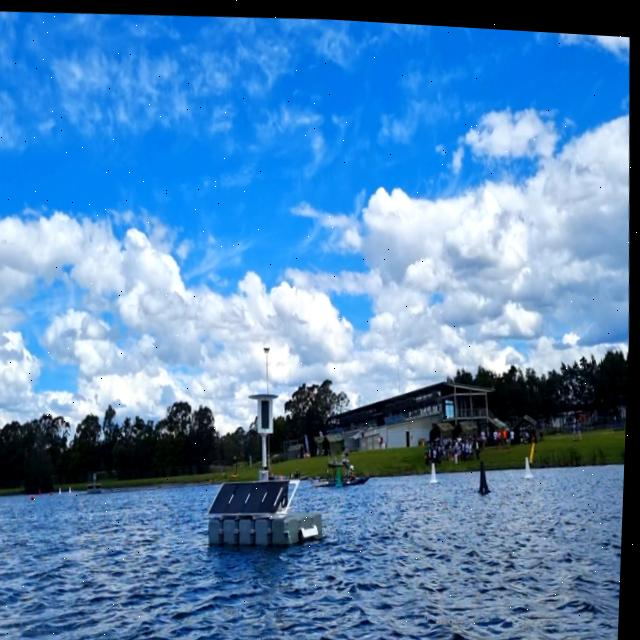led: (260, 393, 276, 428)
